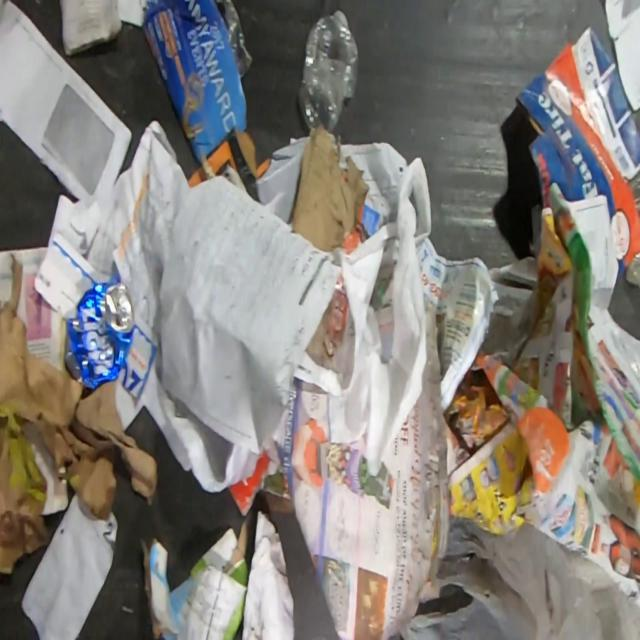cardboard: (515, 25, 640, 276), (141, 0, 248, 164), (138, 514, 251, 639), (228, 131, 260, 202)
metal: (64, 280, 136, 392)
rigid_plastic: (298, 10, 359, 134)
soft_plastic: (401, 515, 640, 639)
